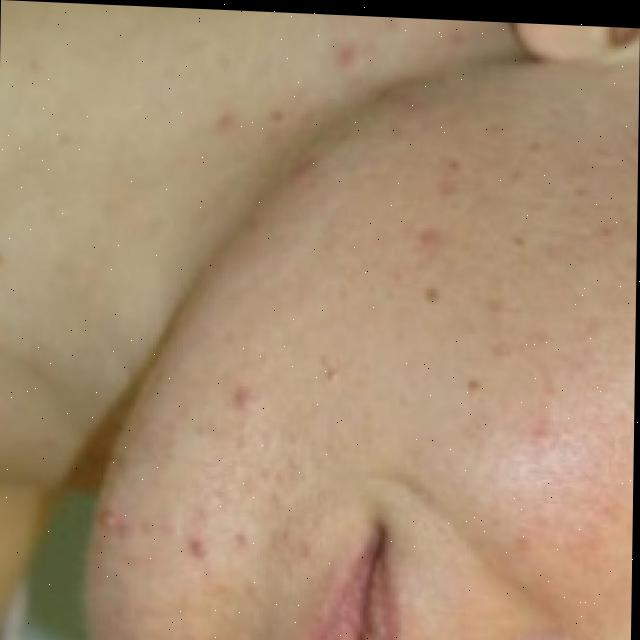Acne: (86, 34, 500, 570)
